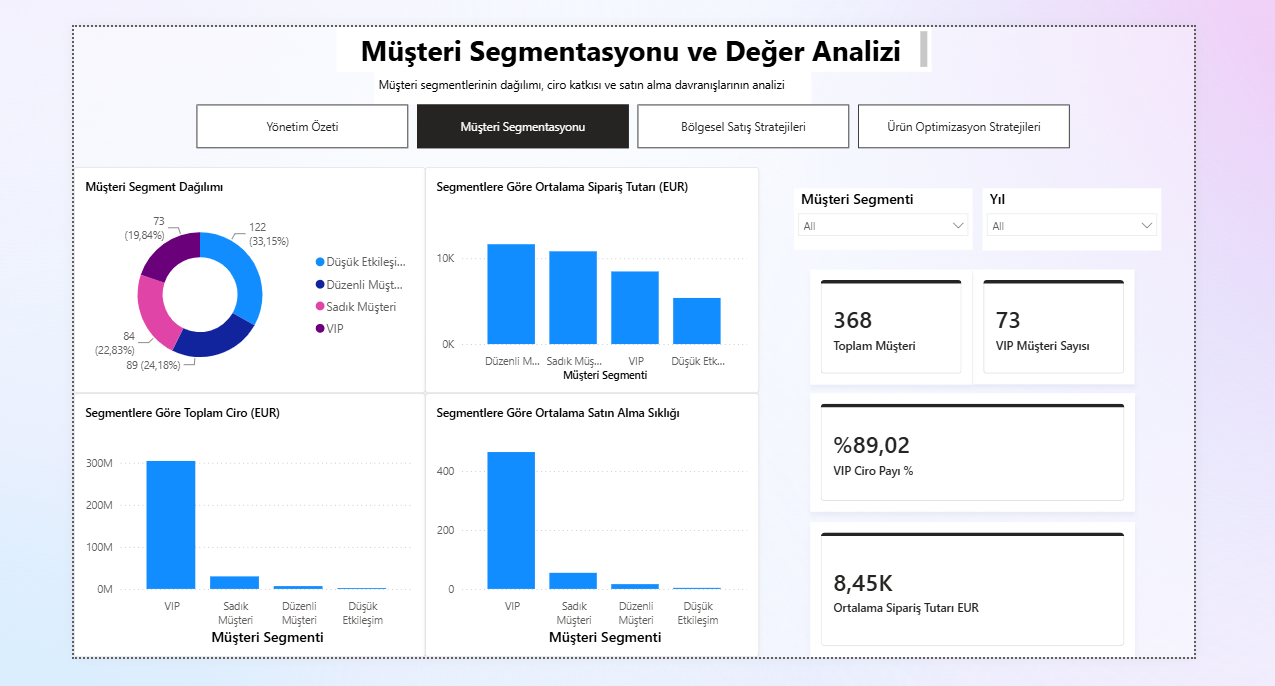

The page's visual inventory and layout, read from the dashboard file:
{"tool":"powerbi","page":{"name":"Müşteri Segmentasyonu","canvas":[1280,720],"ordinal":1},"visuals":[{"type":"donutChart","title":"Müşteri Segment Dağılımı","fields":{"Category":["Müşteri.Müşteri Segmenti"],"Y":["CountNonNull(Müşteri.Müşteri)"]},"box":[0,160,401.4,258.6],"z":0},{"type":"clusteredColumnChart","title":"Segmentlere Göre Toplam Ciro (EUR)","fields":{"Category":["Müşteri.Müşteri Segmenti"],"Y":["Sum(Müşteri.Toplam Ciro EUR)"]},"box":[0,418.6,401.4,301.4],"z":1000},{"type":"clusteredColumnChart","title":"Segmentlere Göre Ortalama Sipariş Tutarı (EUR)","fields":{"Category":["Müşteri.Müşteri Segmenti"],"Y":["Avg(Müşteri.Ortalama Sipariş Tutarı EUR)"]},"box":[401.4,160,381.4,258.6],"z":2000},{"type":"clusteredColumnChart","title":"Segmentlere Göre Ortalama Satın Alma Sıklığı","fields":{"Category":["Müşteri.Müşteri Segmenti"],"Y":["Avg(Müşteri.Satın Alma Sıklığı)"]},"box":[401.4,418.6,381.4,301.4],"z":3000},{"type":"cardVisual","fields":{"Data":["Müşteri.VIP Müşteri Sayısı"]},"box":[1027.1,277.1,185.7,131.4],"z":4000},{"type":"cardVisual","fields":{"Data":["Müşteri.VIP Ciro Payı %"]},"box":[841.4,418.6,371.4,135.7],"z":5000},{"type":"cardVisual","fields":{"Data":["CountNonNull(Müşteri.Müşteri)"]},"box":[841.4,277.1,185,131.7],"z":6000},{"type":"cardVisual","fields":{"Data":["Satış Verileri.Ortalama Sipariş Tutarı EUR"]},"box":[841.4,565.7,371.4,154.3],"z":7000},{"type":"slicer","fields":{"Values":["Müşteri.Müşteri Segmenti"]},"box":[822.9,184.3,204.3,70],"z":8000},{"type":"slicer","fields":{"Values":["Tarih.Yıl"]},"box":[1038.6,184.3,204.3,71.4],"z":9000},{"type":"textbox","box":[300,0,680,51.4],"z":10000},{"type":"textbox","box":[342.9,51.4,500,37.1],"z":11000},{"type":"pageNavigator","box":[140,88.6,1000,50],"z":11001}]}

Visuals, with their boxes on the page's 1280x720 design canvas (x1, y1, x2, y2). These are canvas units, not pixel positions in the 1275x686 screenshot, which may show the page scaled, cropped or inside an application window:
"Müşteri Segment Dağılımı" donutChart: 0 160 401 419
"Segmentlere Göre Toplam Ciro (EUR)" clusteredColumnChart: 0 419 401 720
"Segmentlere Göre Ortalama Sipariş Tutarı (EUR)" clusteredColumnChart: 401 160 783 419
"Segmentlere Göre Ortalama Satın Alma Sıklığı" clusteredColumnChart: 401 419 783 720
cardVisual - Müşteri.VIP Müşteri Sayısı: 1027 277 1213 408
cardVisual - Müşteri.VIP Ciro Payı %: 841 419 1213 554
cardVisual - CountNonNull(Müşteri.Müşteri): 841 277 1026 409
cardVisual - Satış Verileri.Ortalama Sipariş Tutarı EUR: 841 566 1213 720
slicer - Müşteri.Müşteri Segmenti: 823 184 1027 254
slicer - Tarih.Yıl: 1039 184 1243 256
textbox: 300 0 980 51
textbox: 343 51 843 88
pageNavigator: 140 89 1140 139
